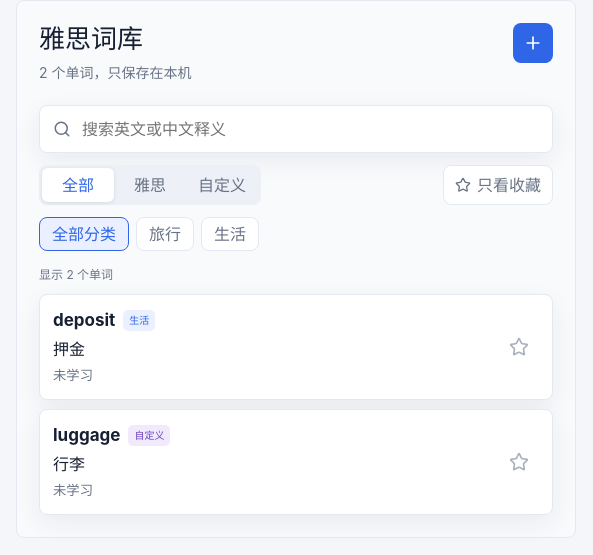
VocabularyScreen › searches Chinese meanings and filters by source
The width and height of the screenshot is (593, 555).
Step 1. Type "押金" into the search field named "搜索单词" → (310, 128), box [80, 116, 539, 142]
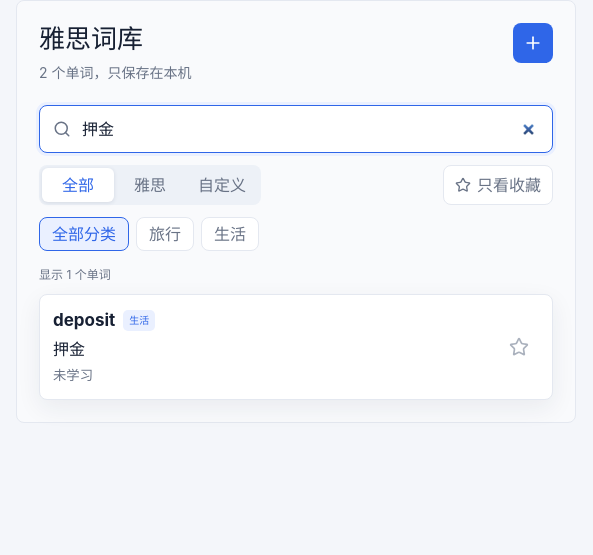
Check: the text "deposit" is shown, box [53, 308, 115, 333]
Check: the text "luggage" is gone
Step 2. Clear the search field named "搜索单词" → (310, 128), box [80, 116, 539, 142]
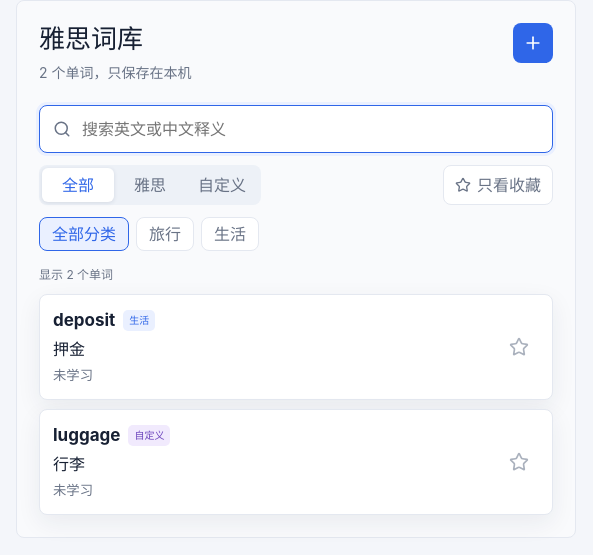
Step 3. Click the button "自定义" → click(222, 184), box [186, 168, 258, 202]
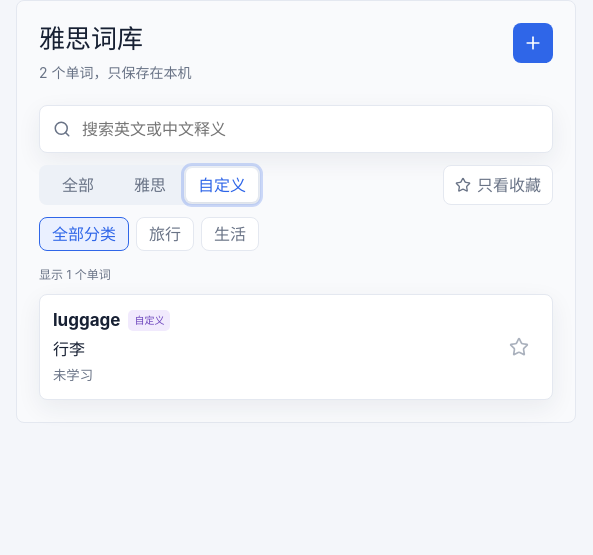
Check: the text "luggage" is shown, box [53, 308, 120, 333]
Check: the text "deposit" is gone
